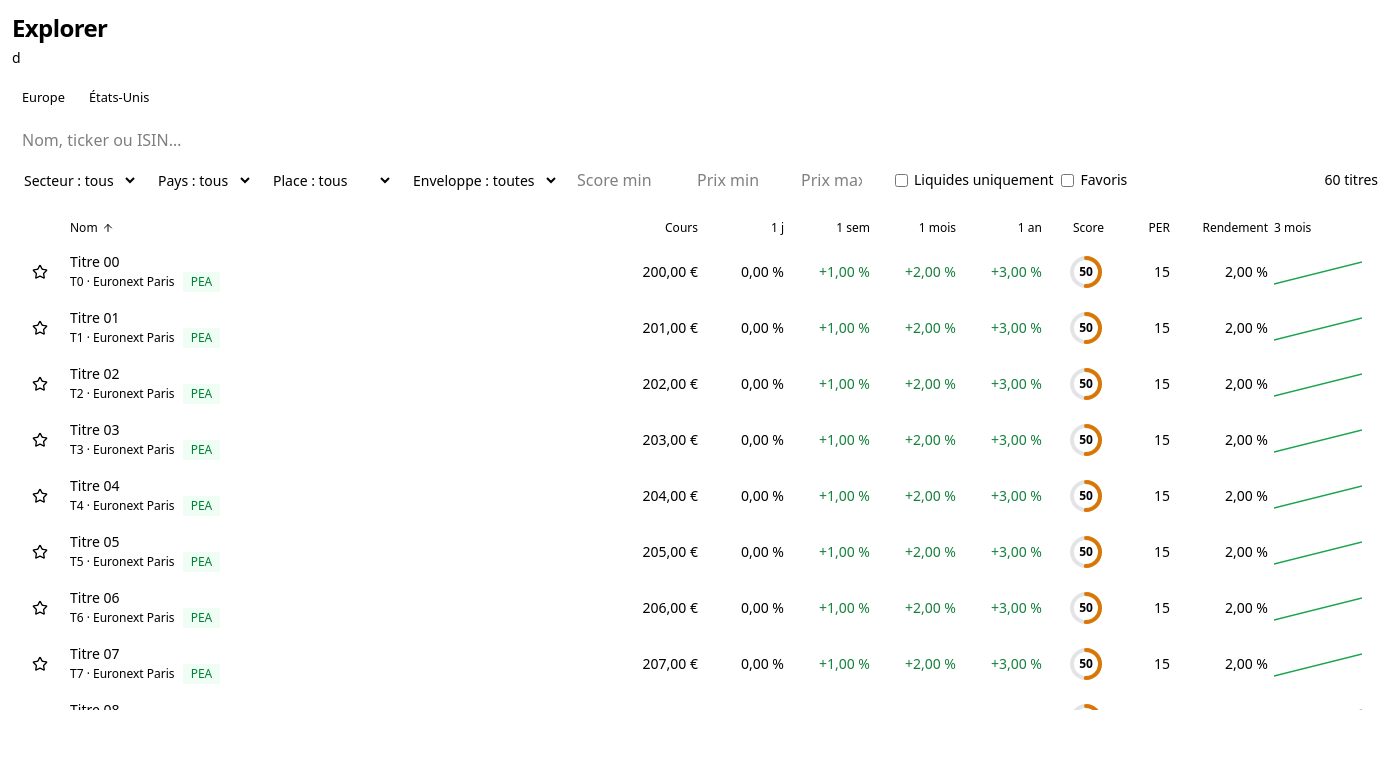
Test case: changer un filtre repart de la première page
This screenshot has width=1390, height=780.
Expected: the text "Titre 00" is shown, 70,252 -> 120,271
Type "titre 5" into the search field named "Rechercher" at (695, 140), box 12,124 -> 1378,156
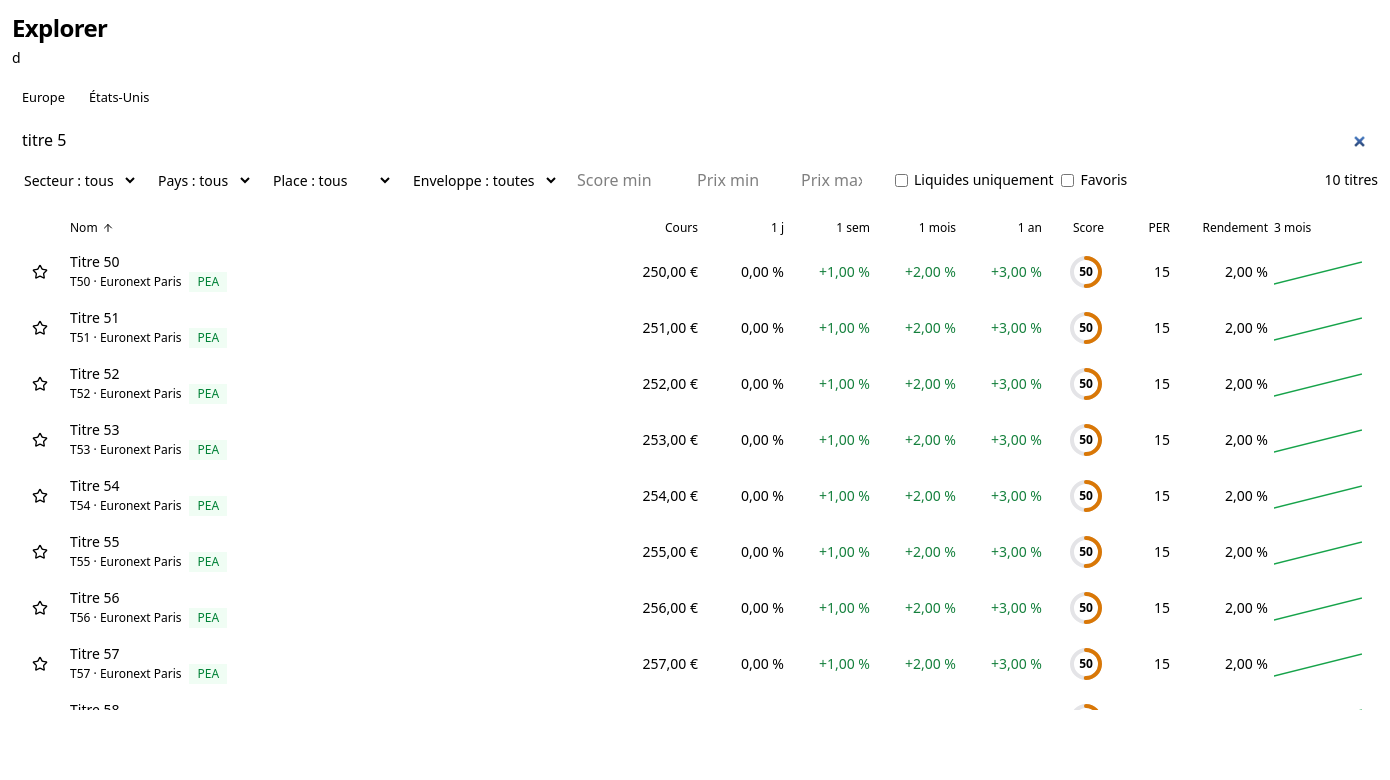
Expected: the text "Titre 00" is gone
